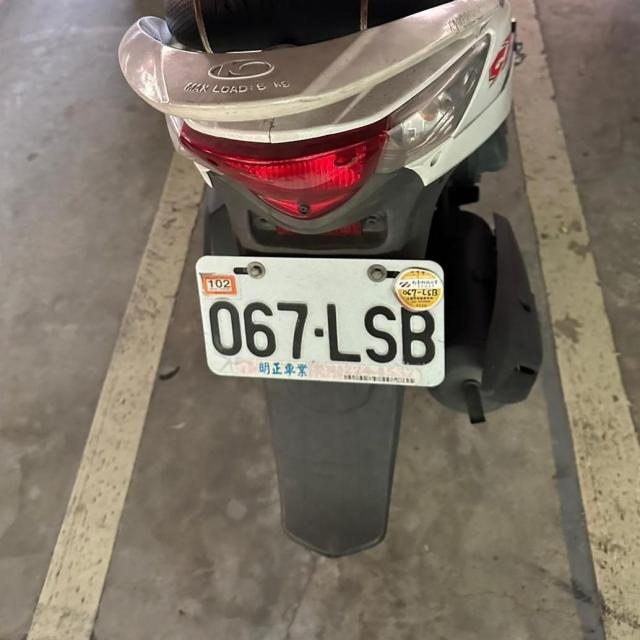W: (190, 246, 451, 390)
